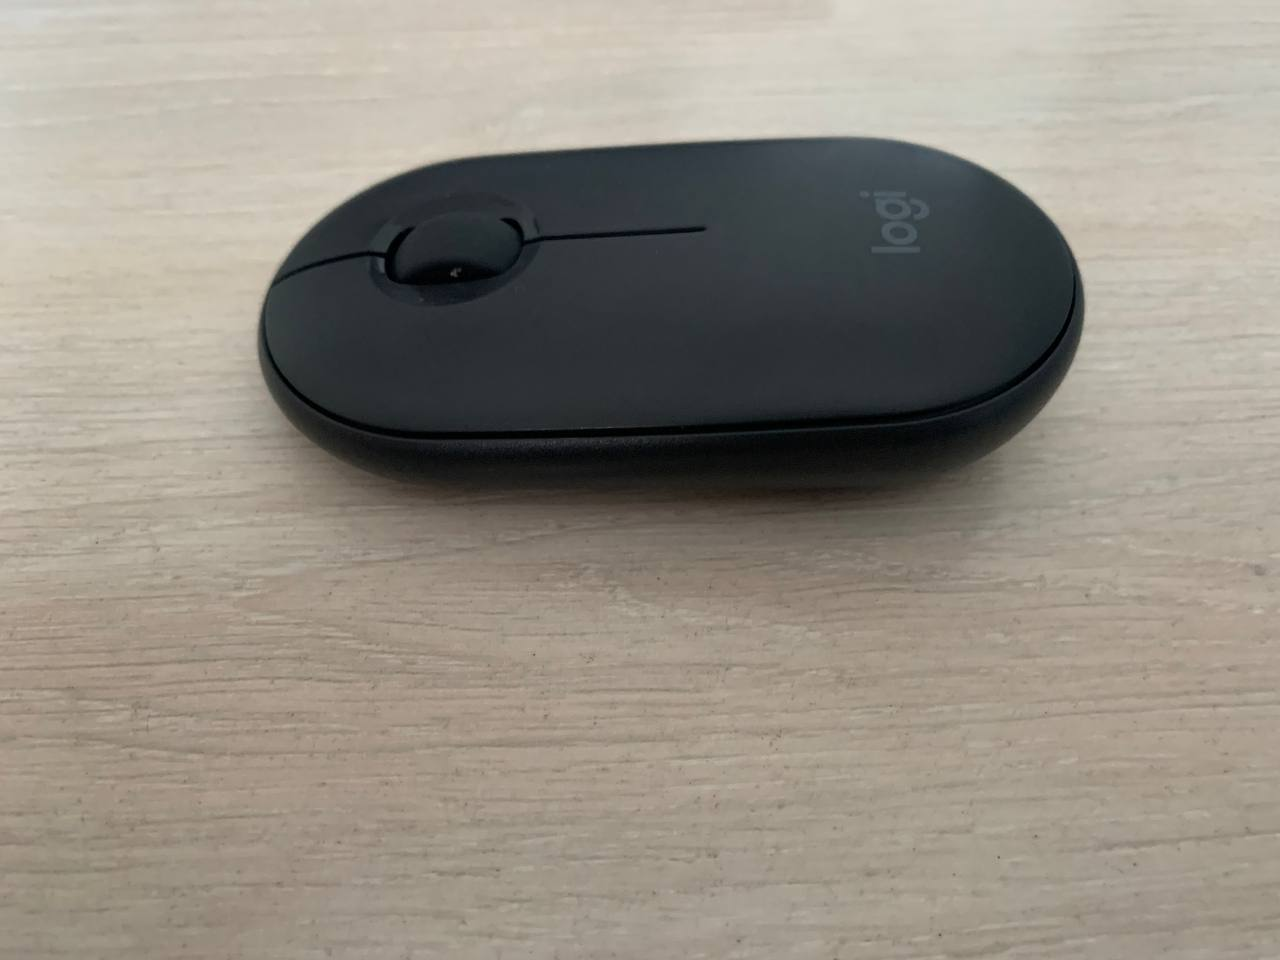mouse: (257, 137, 1086, 494)
